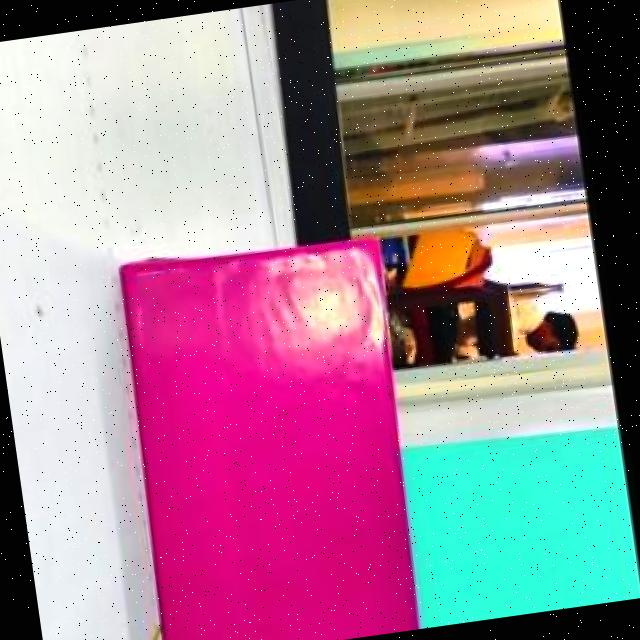xparking: (112, 242, 420, 640)
